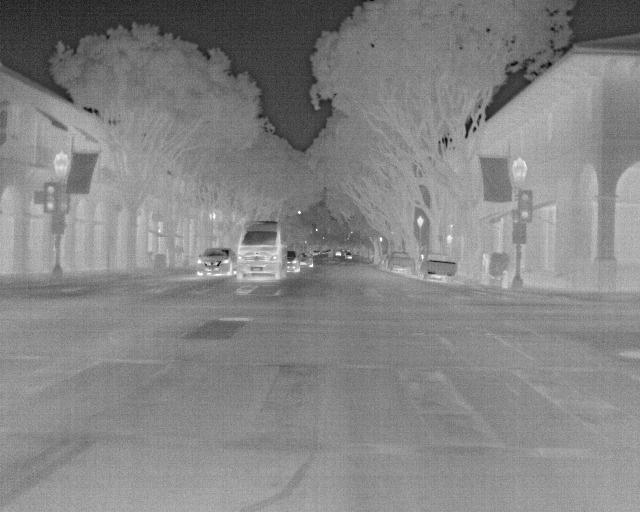car: (234, 218, 286, 284), (194, 248, 236, 279), (419, 253, 458, 282), (384, 250, 416, 276), (284, 248, 300, 272), (297, 249, 315, 270)
